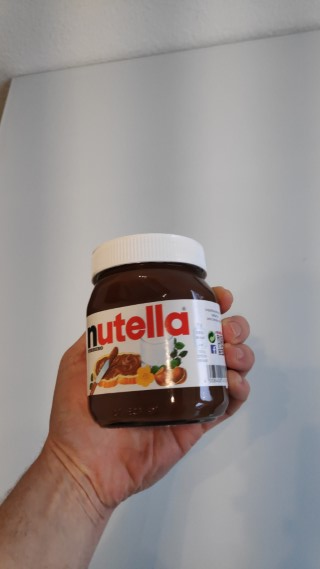nutella: (83, 230, 230, 431)
